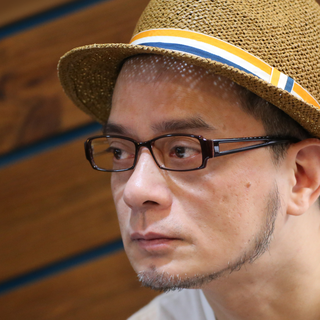eye: (160, 142, 206, 164), (102, 140, 134, 165)
